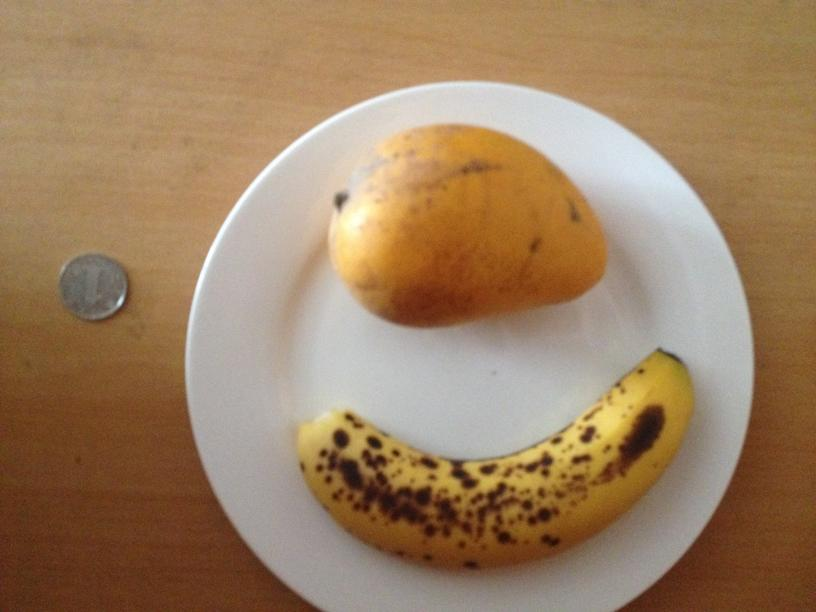banana: (302, 362, 690, 569)
coin: (57, 254, 128, 321)
mango: (328, 125, 606, 329)
